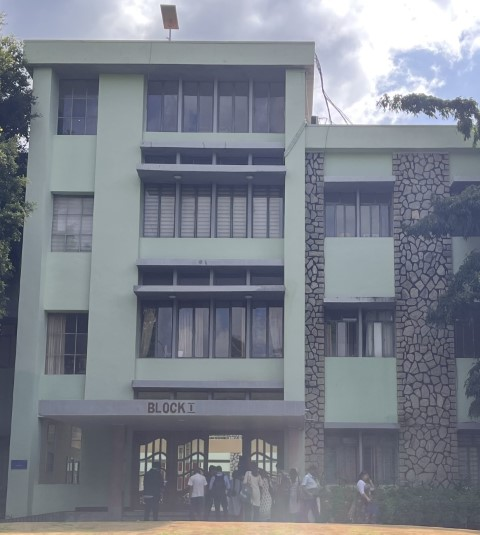Block 1: (6, 11, 480, 535)
